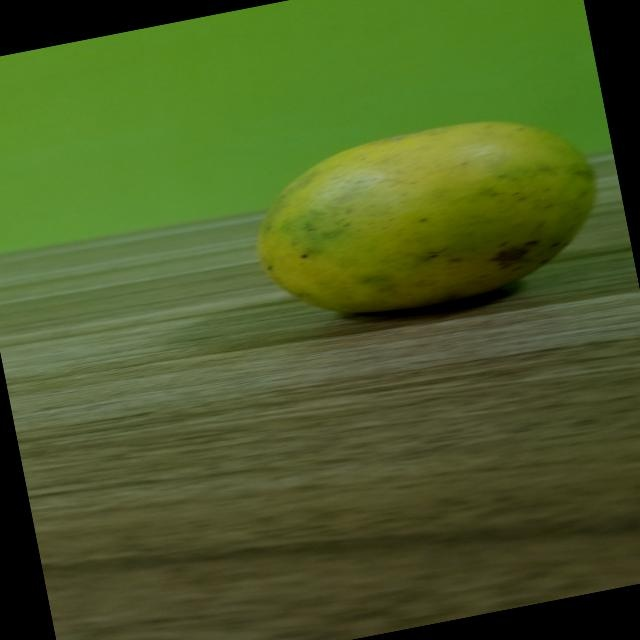agrume: (214, 99, 614, 349)
